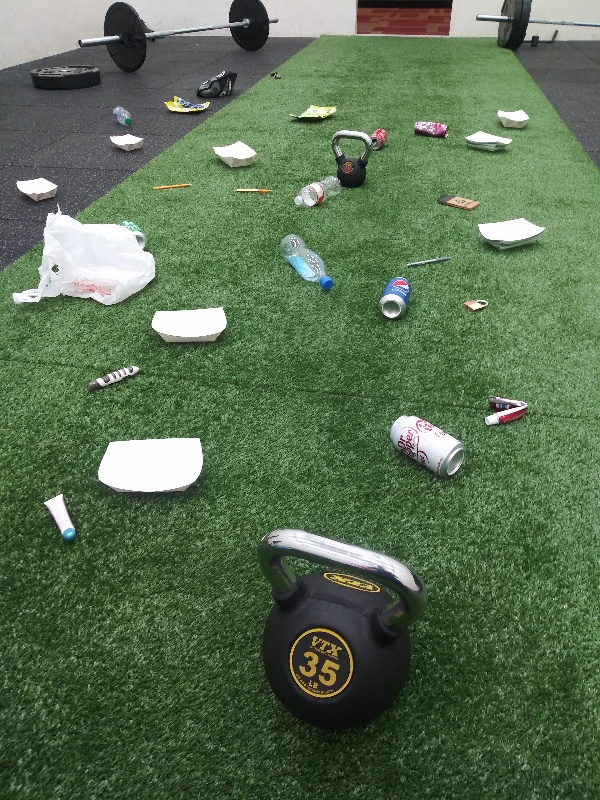bag: (159, 90, 214, 115), (288, 101, 339, 123)
bottle: (268, 229, 336, 295), (290, 174, 346, 211), (108, 104, 139, 128)
can: (387, 410, 472, 483), (377, 273, 415, 323), (409, 118, 453, 139), (367, 125, 391, 153)
plate: (90, 430, 204, 492), (148, 297, 231, 354), (474, 211, 552, 253), (458, 125, 514, 157), (208, 138, 262, 170), (10, 174, 63, 202), (102, 129, 148, 155), (492, 105, 533, 133)
